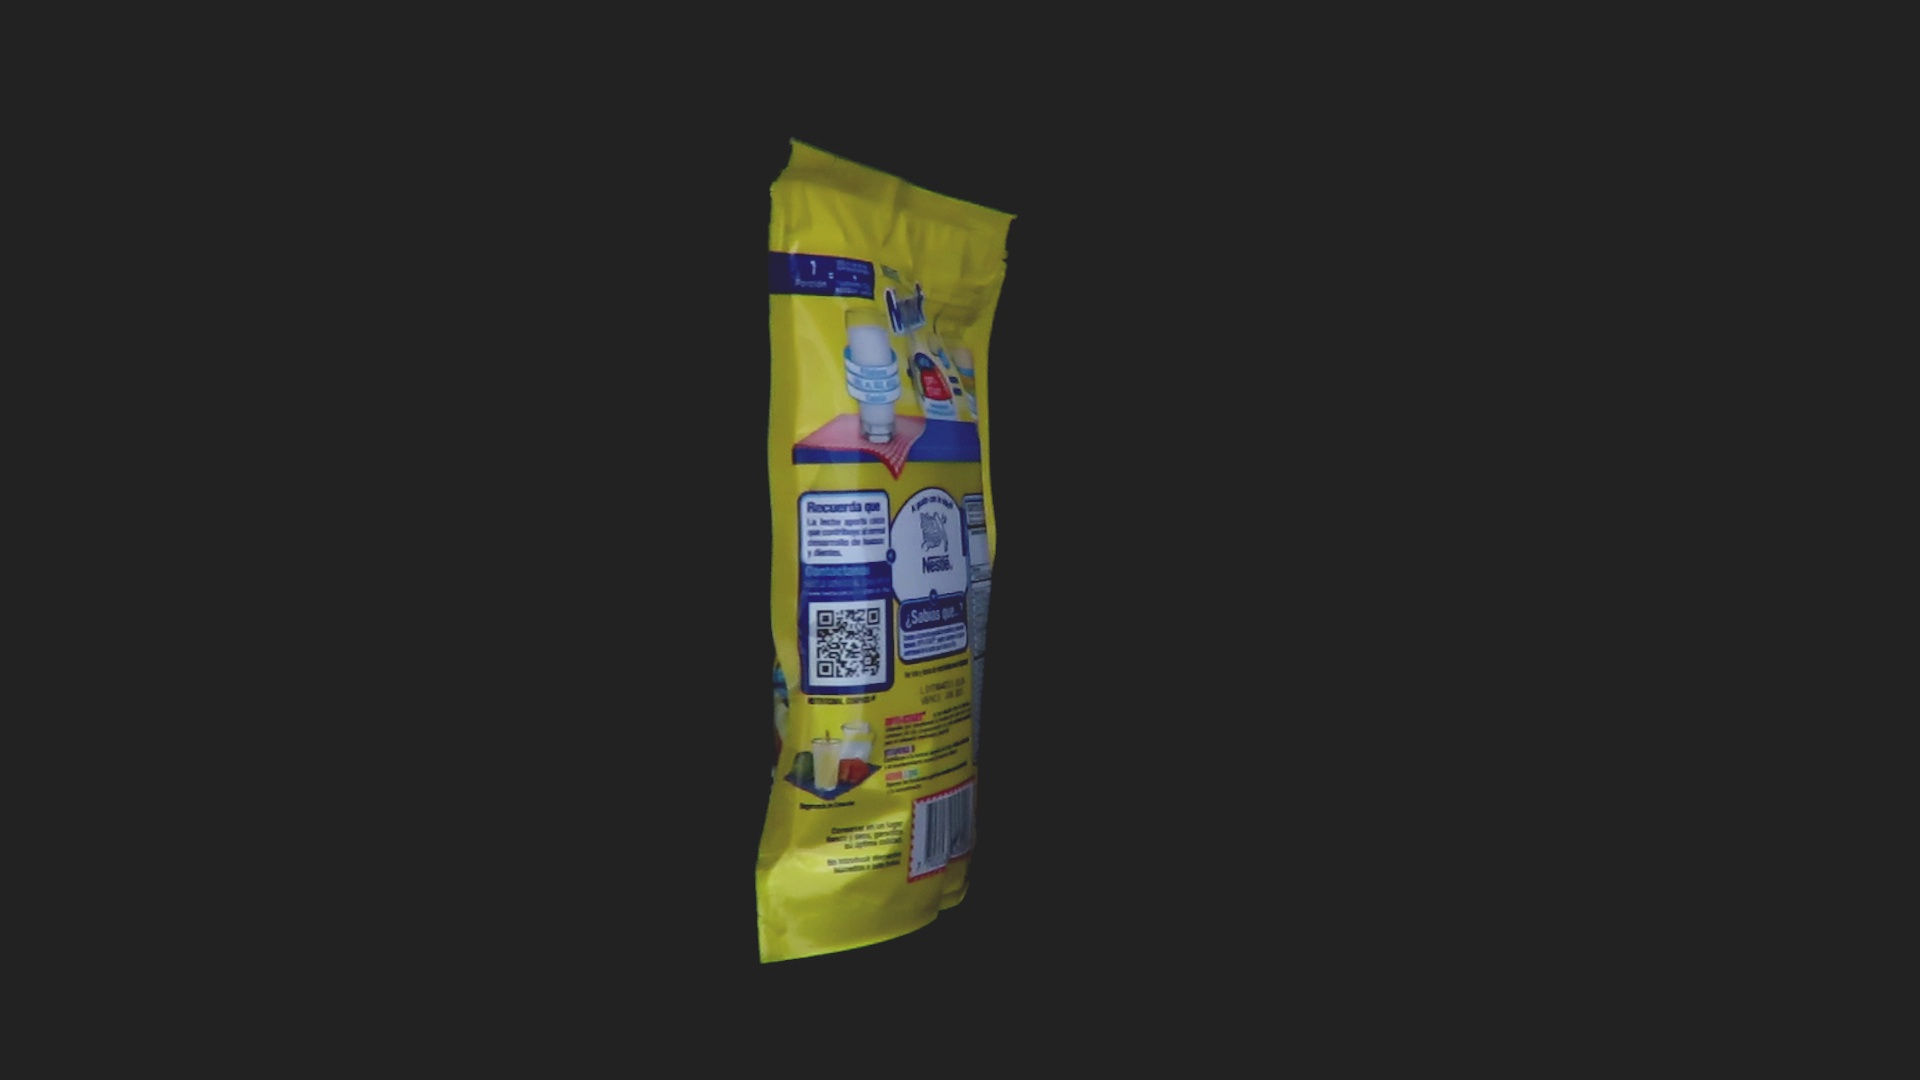COL0170306DYP20000: (750, 132, 1025, 971)
